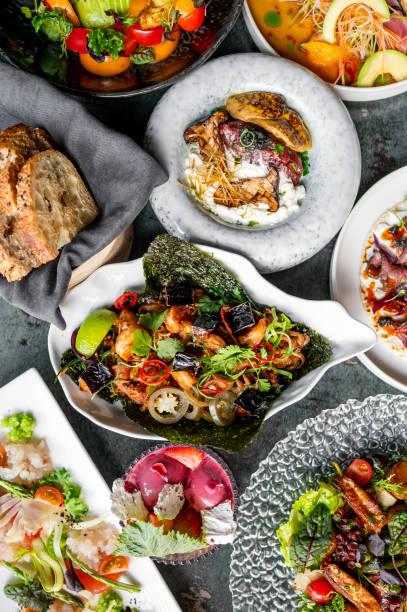Braised Crucian Carp: (48, 247, 378, 436), (142, 53, 361, 266), (145, 55, 364, 268)
